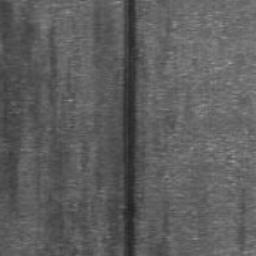Scratches: (122, 0, 138, 256)
